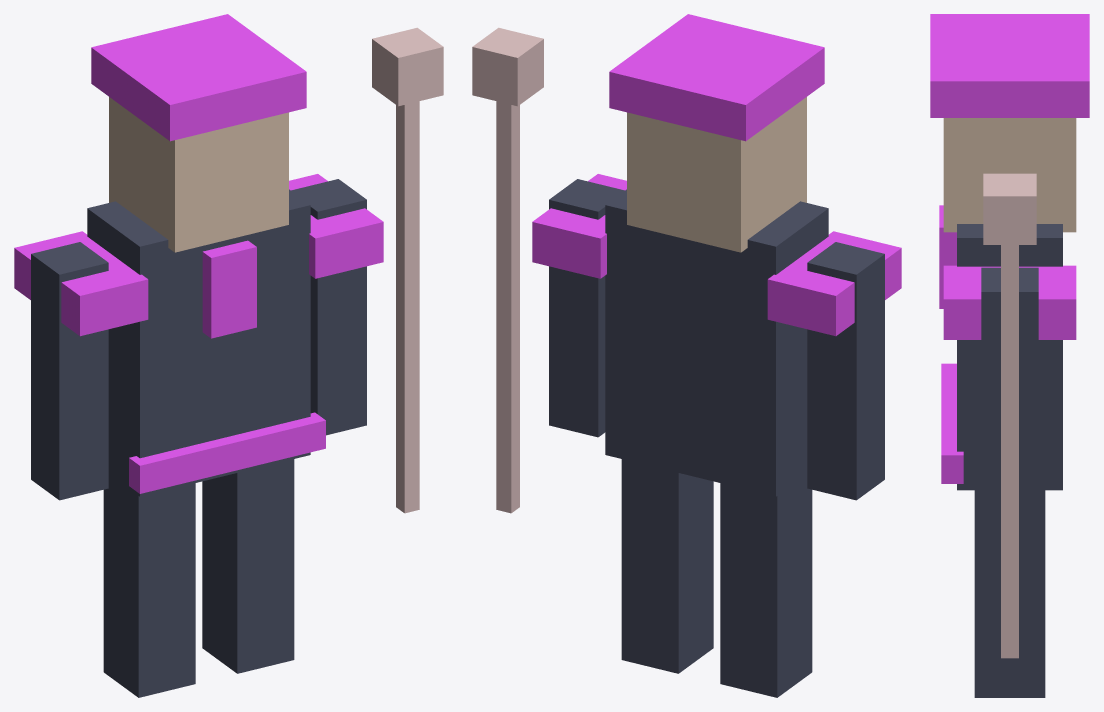
The model's file is 07_thorne_glassroot_responder_from_logistics.glb.
The picture shows the model from 3 angles, left to right: view 1: azimuth 30°, elevation 25°; view 2: azimuth 150°, elevation 25°; view 3: azimuth 270°, elevation 25°; orthographic projection.
Visible parts, largest first — view 1: Thorne Glassroot, Responder from Logistics; view 2: Thorne Glassroot, Responder from Logistics; view 3: Thorne Glassroot, Responder from Logistics.
Part boxes in pixels (x1=…): Thorne Glassroot, Responder from Logistics: x1=14, y1=14, x2=443, y2=697; Thorne Glassroot, Responder from Logistics: x1=472, y1=14, x2=901, y2=697; Thorne Glassroot, Responder from Logistics: x1=930, y1=14, x2=1089, y2=697.
Bounding box in the file's own units: 0.9971 × 1.5 × 0.3536.
